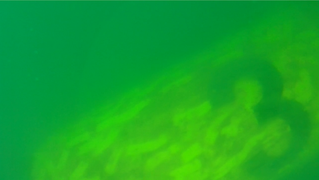3: (208, 56, 311, 170)
pipe: (30, 1, 319, 179)
